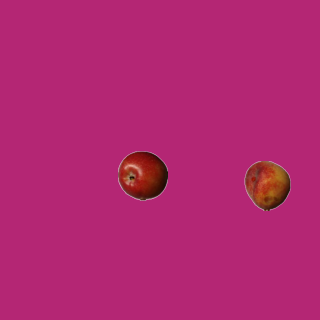Apple Braeburn: (117, 150, 167, 200)
Peach: (242, 160, 292, 210)
